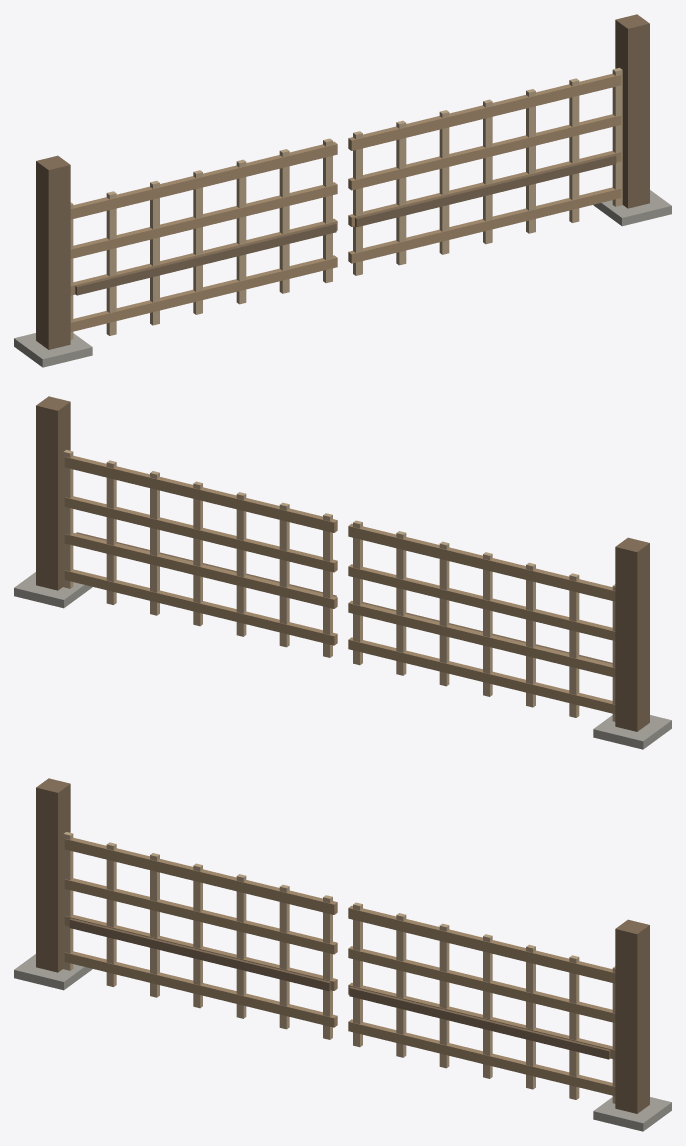
File: toll_gate_wooden.glb
The picture shows the model from 3 angles, top to bottom: view 1: azimuth 30°, elevation 25°; view 2: azimuth 150°, elevation 25°; view 3: azimuth 330°, elevation 25°; orthographic projection.
Parts seen in each view (by area): view 1: wood, wood_dk, wood_lt, stone; view 2: wood, wood_lt, wood_dk, stone; view 3: wood, wood_dk, wood_lt, stone.
Part boxes in pixels (left/top/right/bottom): wood: left=70, top=73, right=621, bottom=331; wood_dk: left=36, top=14, right=649, bottom=349; wood_lt: left=70, top=68, right=622, bottom=339; stone: left=14, top=190, right=671, bottom=367; wood: left=64, top=455, right=615, bottom=713; wood_lt: left=63, top=450, right=615, bottom=721; wood_dk: left=36, top=396, right=649, bottom=731; stone: left=14, top=572, right=671, bottom=749; wood: left=64, top=837, right=615, bottom=1095; wood_dk: left=36, top=778, right=649, bottom=1113; wood_lt: left=63, top=832, right=615, bottom=1103; stone: left=14, top=954, right=671, bottom=1131.
Size of the model in its own units: 6.3 by 1.8 by 0.5.
